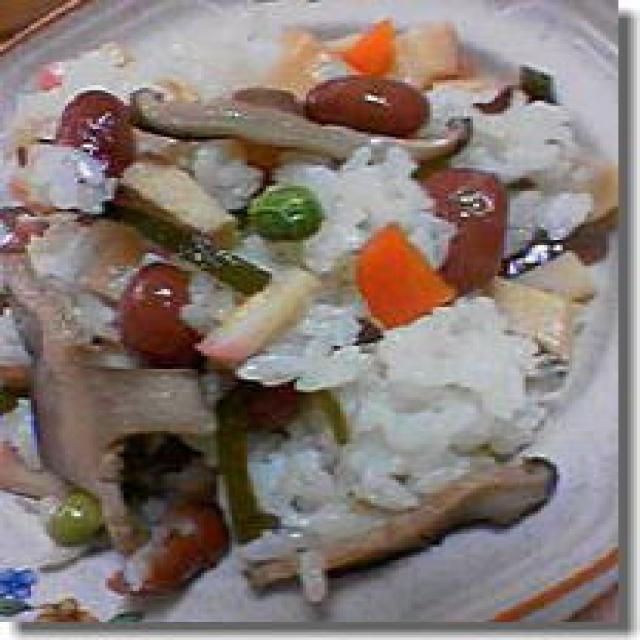寿司卷物: (0, 0, 578, 583)
